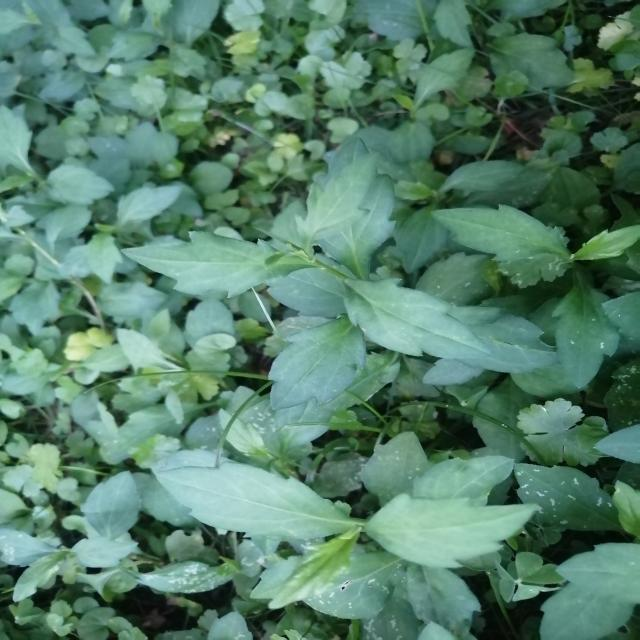Indian aster: (160, 150, 536, 381), (182, 440, 556, 610)
